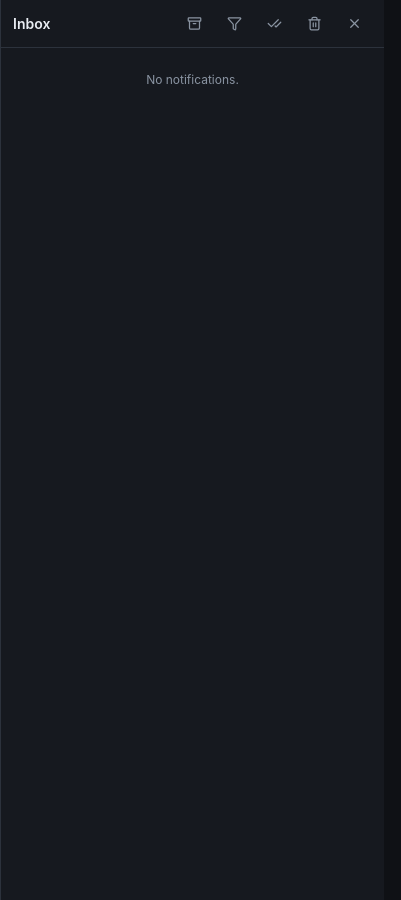
InboxPanel archive search debounce/cancel › debounces typing: rapid keystrokes produce one search with the final query
Click the button titled "Archive — everything, searchable" at (194, 24), box [176,6,212,42]
Wait 150 ms
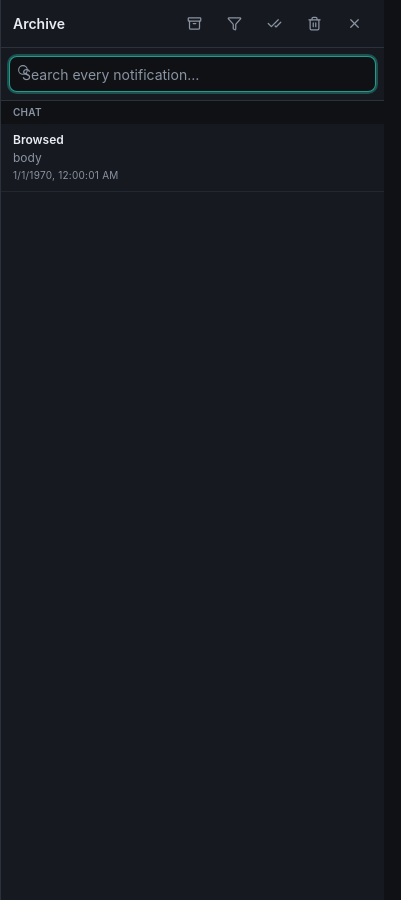
Type "i" into the field with placeholder "Search every notification…" at (192, 74), box [9,56,376,92]
Wait 100 ms
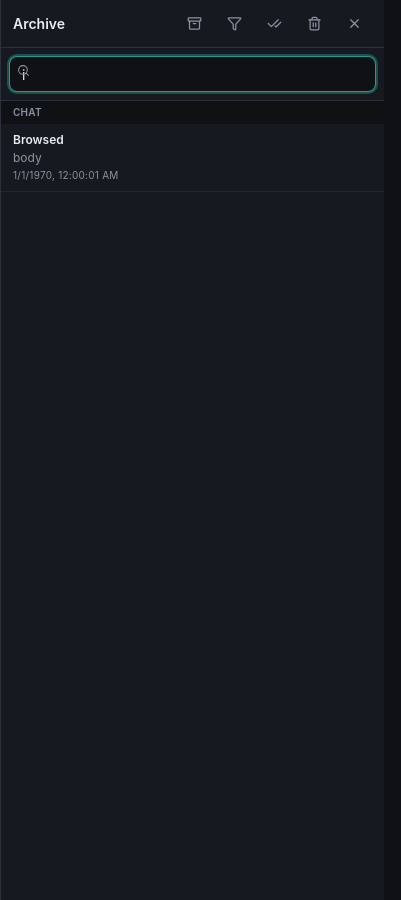
Replace the text in the field with placeholder "Search every notification…" with "in" at (192, 74), box [9,56,376,92]
Wait 100 ms
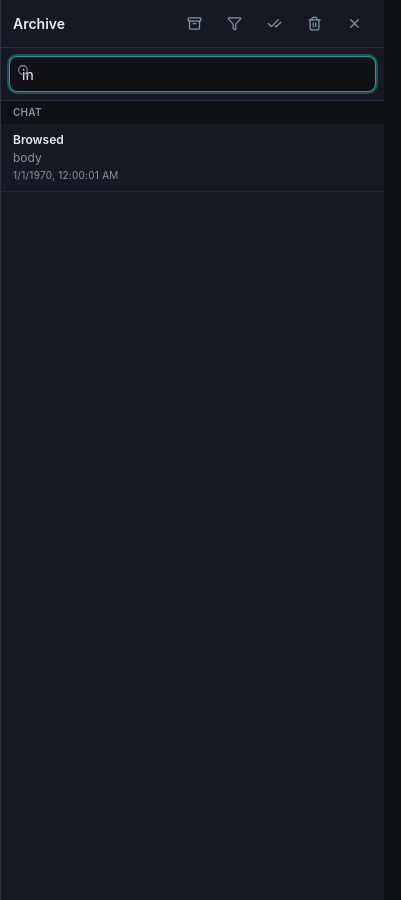
Replace the text in the field with placeholder "Search every notification…" with "invoice" at (192, 74), box [9,56,376,92]
Wait 150 ms
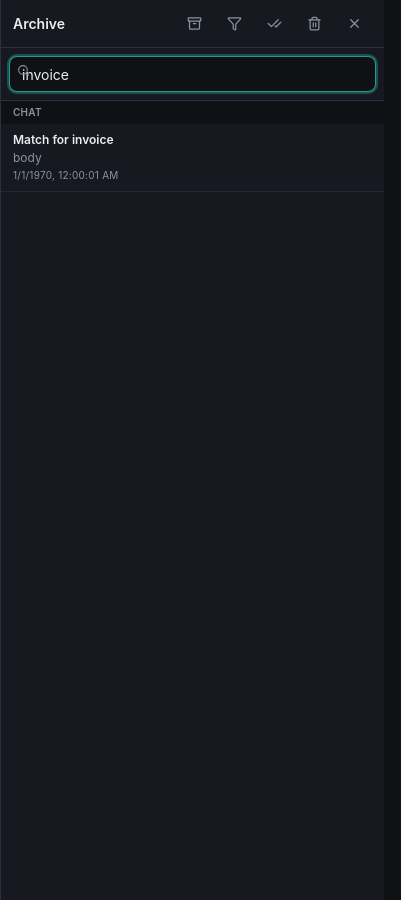
Result: the text "Match for invoice" is shown at [13,132,114,148]
